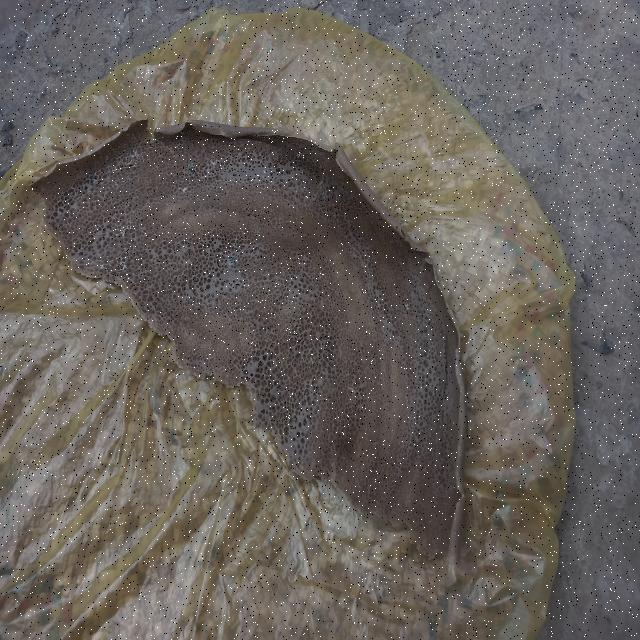injera_mold: (298, 167, 306, 184), (120, 223, 130, 236), (123, 176, 134, 187), (104, 162, 114, 174), (445, 416, 455, 427), (117, 260, 126, 272), (89, 174, 97, 185), (68, 189, 74, 203), (128, 142, 136, 152), (211, 183, 219, 192), (426, 381, 434, 390), (210, 160, 220, 167), (74, 253, 80, 264), (114, 152, 122, 160), (194, 194, 200, 204), (324, 190, 329, 201), (404, 303, 410, 312), (438, 332, 444, 341), (58, 206, 63, 216), (262, 168, 267, 178), (437, 350, 442, 360), (229, 257, 236, 264), (188, 166, 194, 174), (154, 143, 160, 151), (451, 485, 457, 493), (279, 165, 285, 173), (109, 262, 112, 278), (179, 134, 184, 143), (40, 183, 44, 194), (296, 151, 302, 158), (419, 372, 422, 384), (183, 188, 188, 195), (131, 157, 138, 162), (134, 153, 141, 158), (255, 229, 258, 240), (127, 156, 130, 166), (100, 262, 104, 269), (116, 232, 119, 240), (115, 180, 118, 187), (235, 239, 237, 249), (118, 194, 122, 198), (155, 164, 161, 166), (85, 187, 88, 191), (188, 221, 189, 233), (125, 166, 128, 170), (428, 350, 429, 358), (154, 233, 155, 239), (132, 225, 132, 232)
